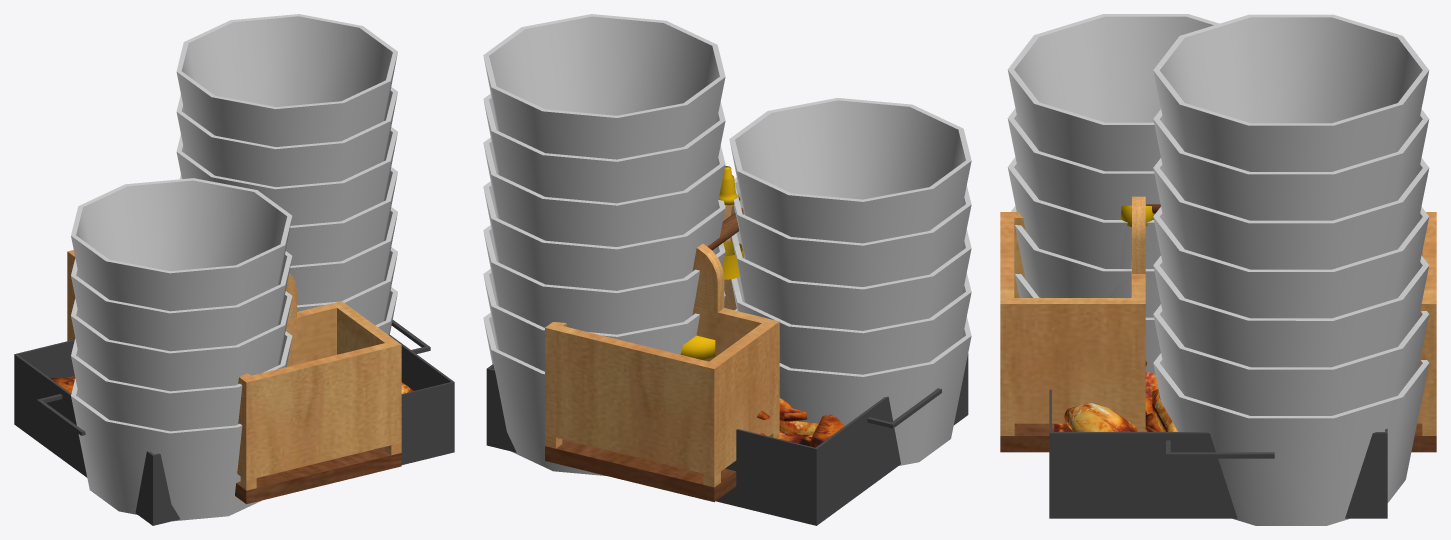
The model's file is StreetFood02.fbx.
The picture shows the model from 3 angles, left to right: view 1: azimuth 30°, elevation 25°; view 2: azimuth 150°, elevation 25°; view 3: azimuth 270°, elevation 25°; orthographic projection. The views are drawn at different scales.
Visible parts, largest first — view 1: bowl, Equip_box, Chicken; view 2: bowl, Equip_box, Chicken, B02, B03; view 3: bowl, Equip_box, Chicken.
Part boxes in pixels (x1,y1,x2,y2): bowl: (71,14,397,521); Equip_box: (67,250,401,504); Chicken: (14,320,454,525); bowl: (483,14,971,475); Equip_box: (545,204,779,502); Chicken: (486,353,968,525); B02: (718,166,743,310); B03: (680,335,715,360); bowl: (1007,14,1429,525); Equip_box: (1000,196,1436,452); Chicken: (1049,360,1387,518).
Size of the model in its own units: 34.58 by 31.6 by 30.49.
